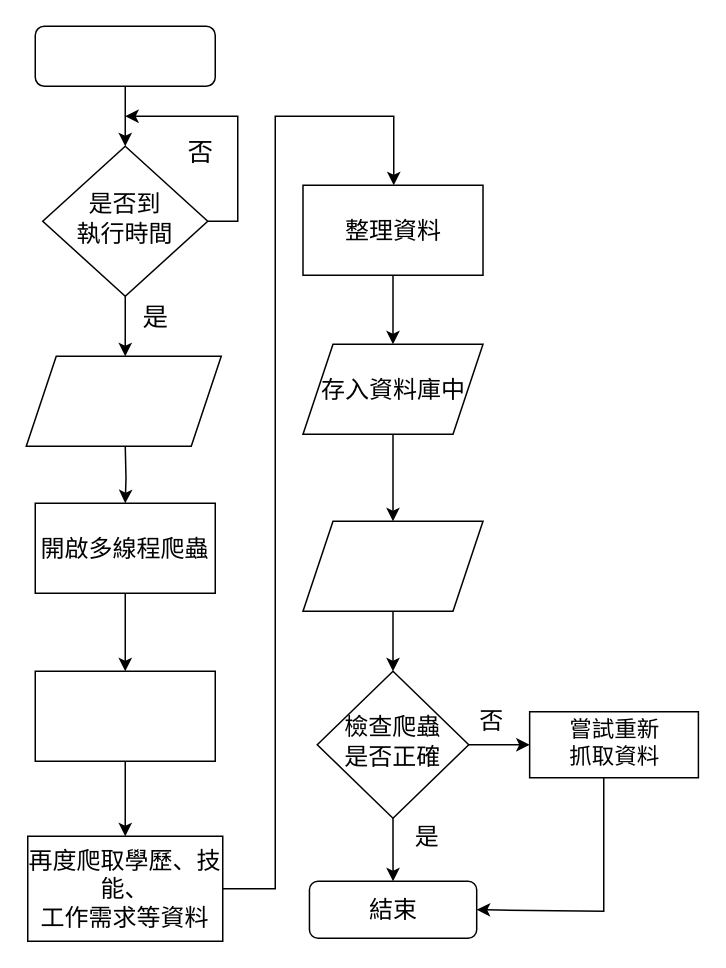
Image size: 726x968. Some labels were removed from this diagram. Each missing label, with the centre of its shape:
"從資料庫存取 爬蟲所需的資料" belongs at point 123,400.
"紀錄爬蟲日誌" belongs at point 392,565.
"解析資料" belongs at point 124,715.
"開始爬蟲" belongs at point 124,55.
